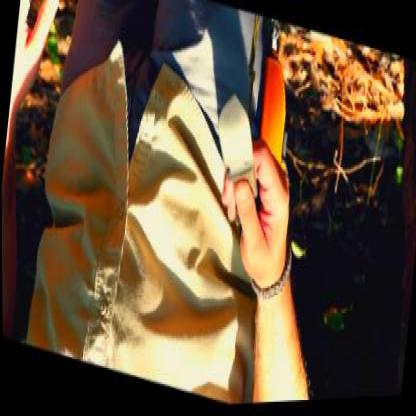knife: (201, 76, 303, 262)
